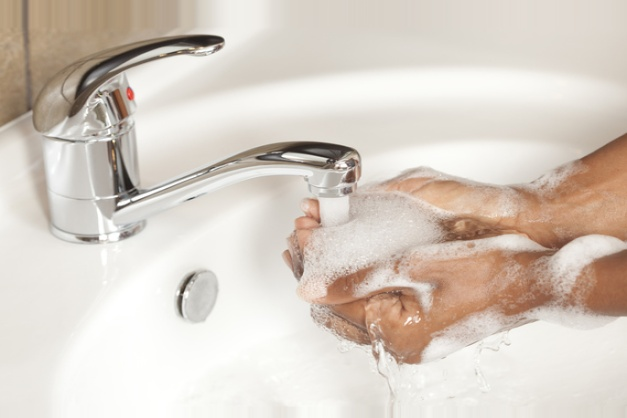washing hand: (100, 35, 600, 392)
